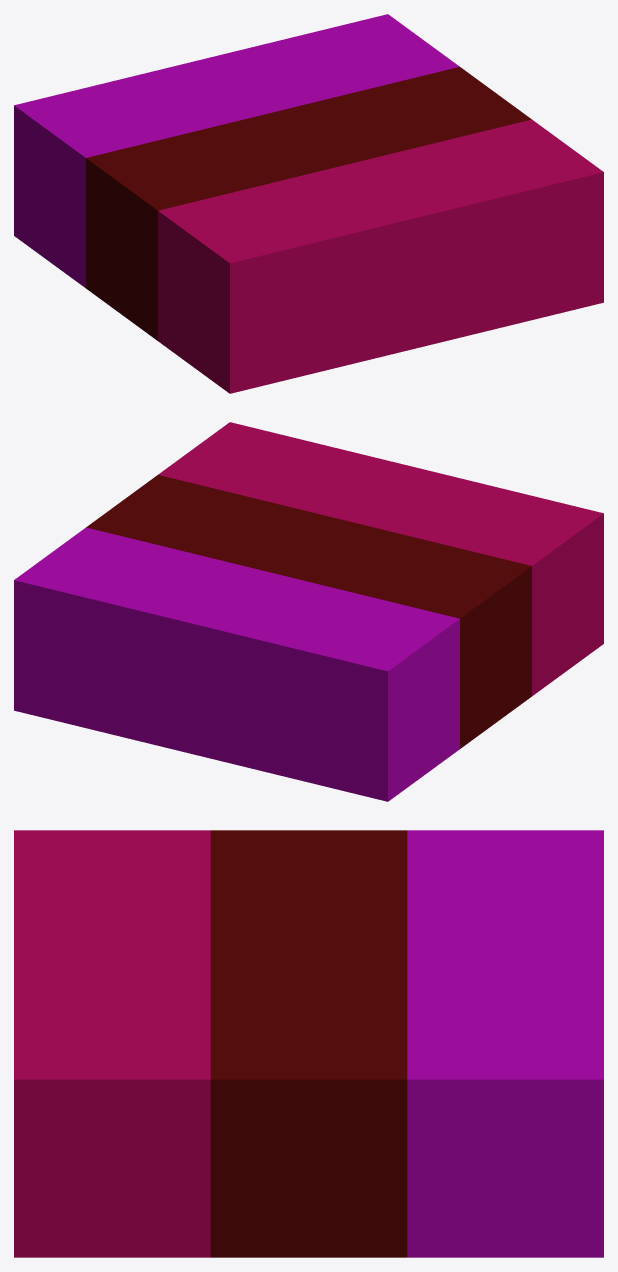
File: ceil_0.fbx
3 views of the same model, one above another, from view 1: azimuth 30°, elevation 25°; view 2: azimuth 150°, elevation 25°; view 3: azimuth 270°, elevation 25° (orthographic). The views are drawn at different scales.
Visible parts, largest first — view 1: ceil_0_cube:Mesh; view 2: ceil_0_cube:Mesh; view 3: ceil_0_cube:Mesh.
Part boxes in pixels (x1,y1,x2,y2): ceil_0_cube:Mesh: (14, 14, 603, 393); ceil_0_cube:Mesh: (14, 422, 603, 801); ceil_0_cube:Mesh: (14, 830, 603, 1257).
Bounding box in the file's own units: 3 × 1 × 3.
